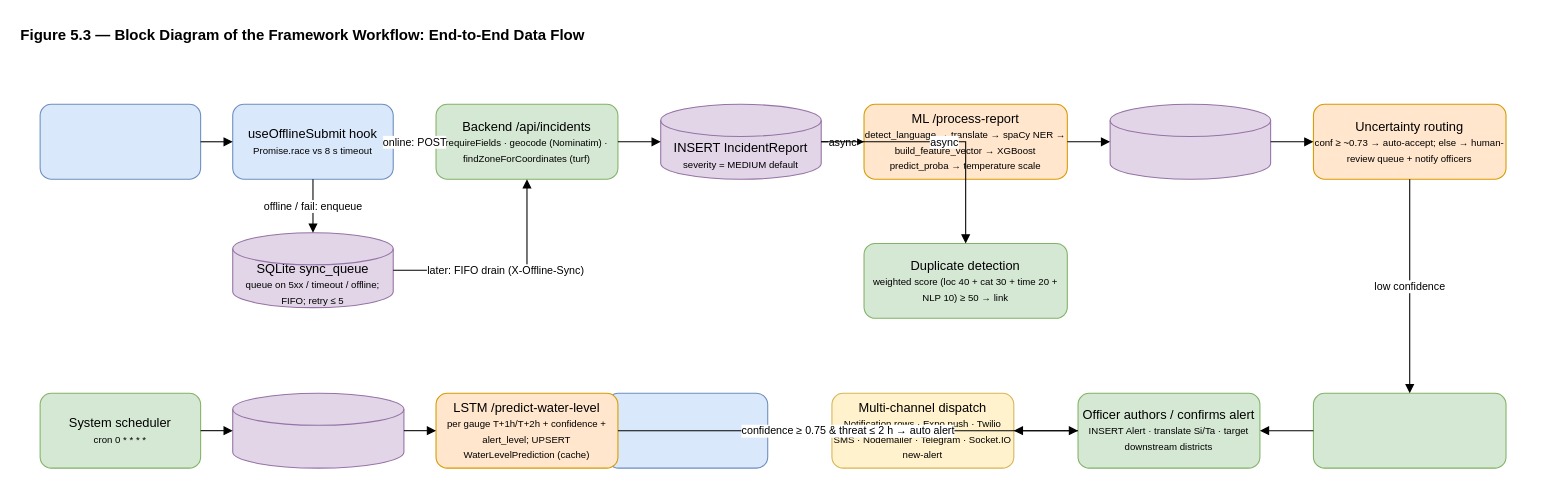
The diagram is 1556 pixels wide and 487 high, and some of its shapes have lost their labels. The centre of each missing label's shape, as x and y in pixels:
"Citizen device isAlertNearby() filter → local notification" goes at point (687, 430).
"Citizen submits report Si/Ta/En + photo + GPS" goes at point (120, 141).
"DMC officer review confirm / correct severity → active-learning pool" goes at point (1409, 430).
"Ingest river + rainfall RiverWaterLevel · Open-Meteo" goes at point (318, 430).
"UPDATE IncidentReport severity, confidence, entities, language; write MLLog" goes at point (1190, 141).
